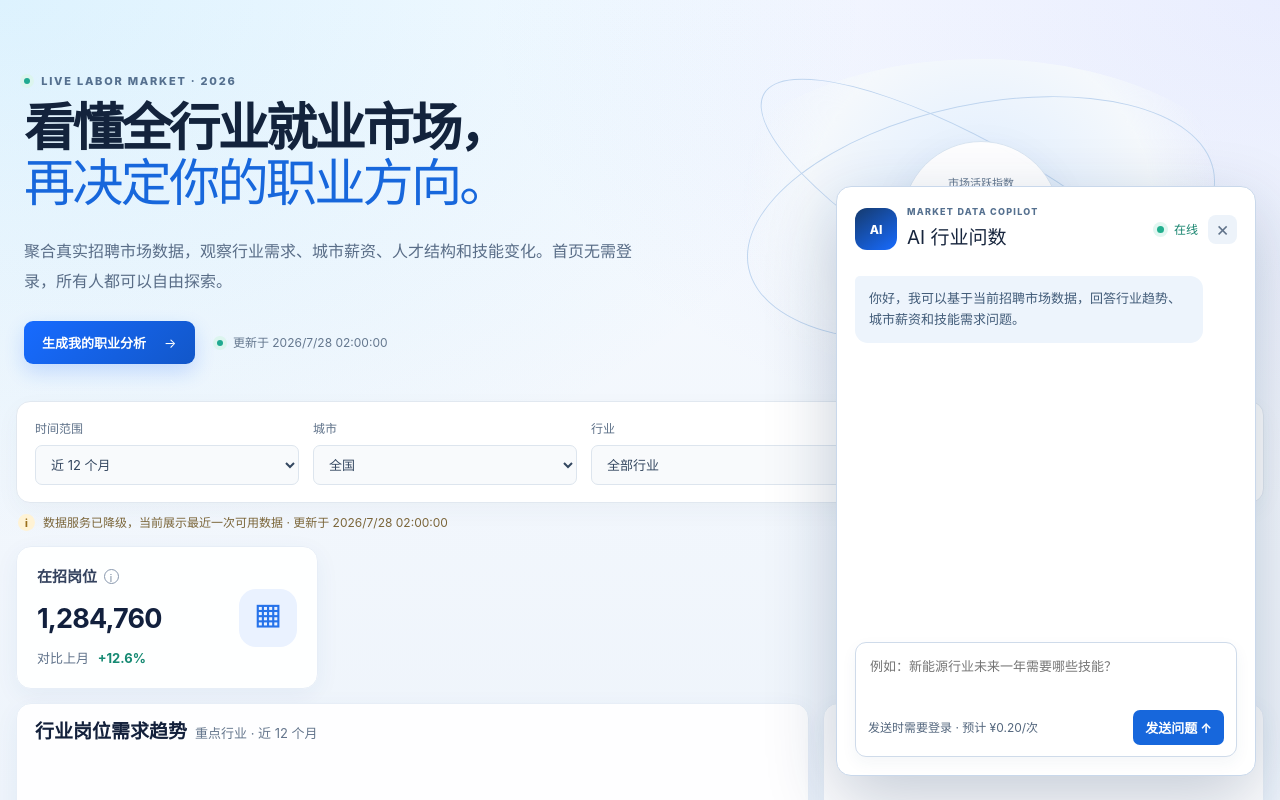
Test: HomeView V2 › replaces partial text with the safe unbilled failure state
Type "测试失败展示" into the text box with test id "market-ai-input".
click(1046, 678); type("测试失败展示")  # box [868,654,1224,702]
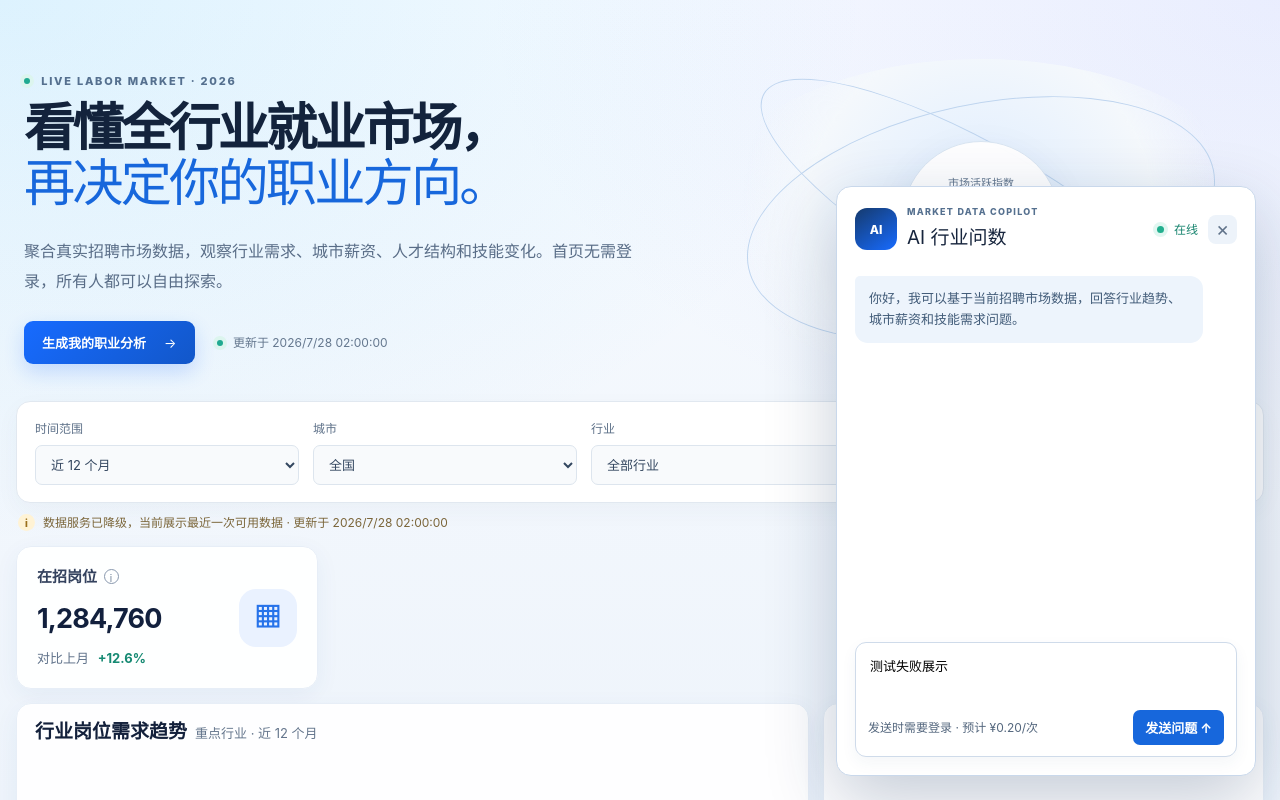
Submit the form with class "ai-composer", box [855,642,1237,757]
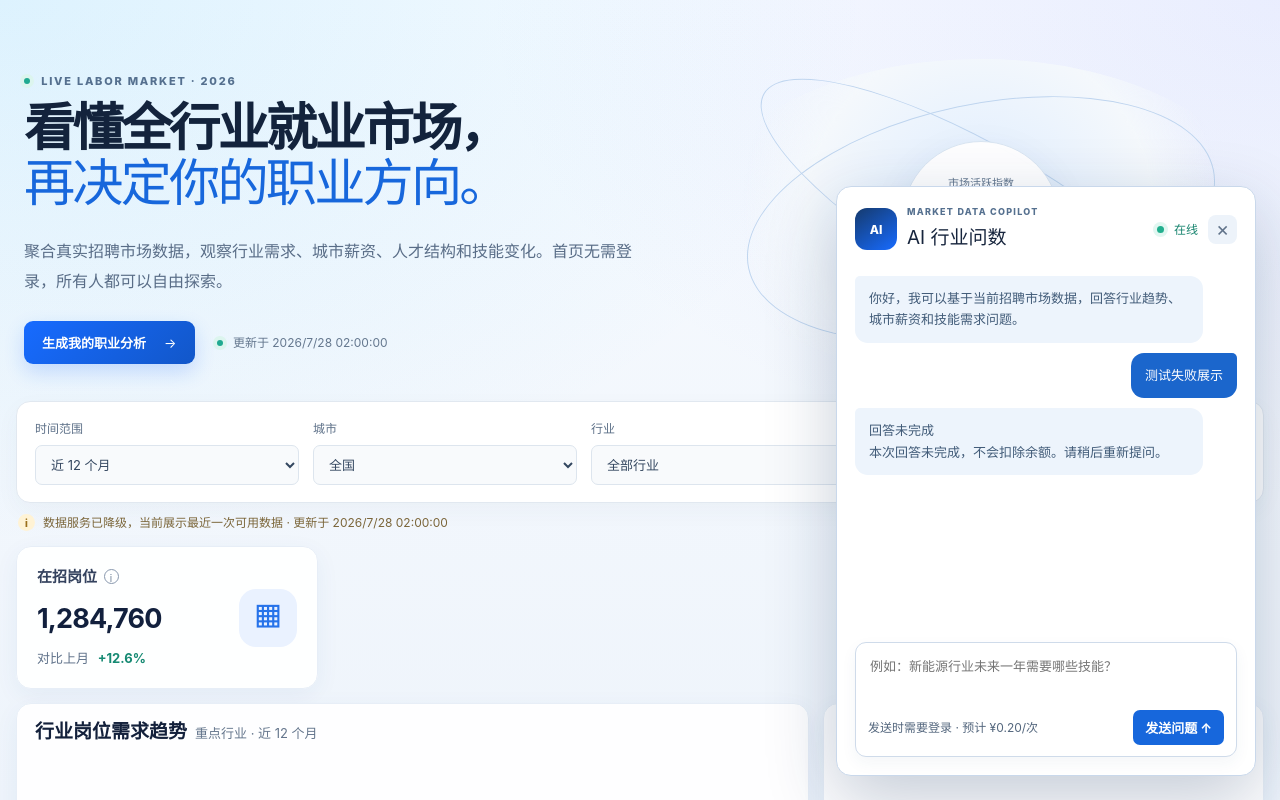
Now the element with test id "market-ai-streaming-message" shows "未完成", box [869,420,1189,463]
Now the element with test id "market-ai-streaming-message" shows "不会扣除余额", box [869,444,1168,460]
